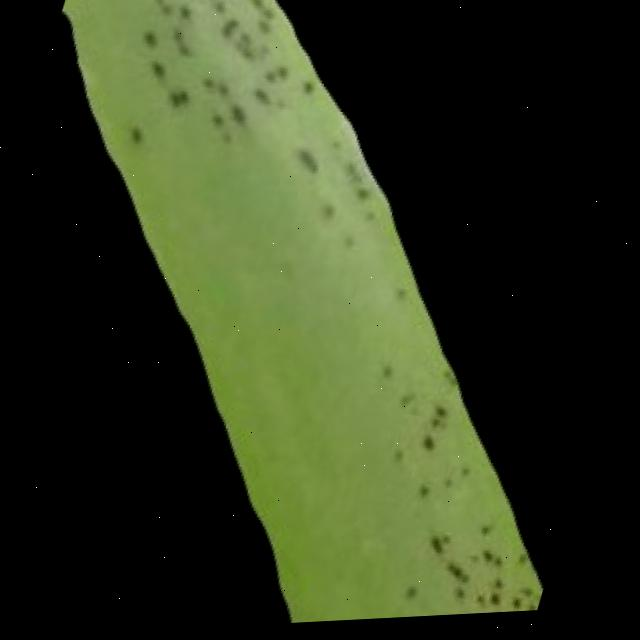mite: (291, 145, 326, 177), (448, 559, 481, 591), (428, 404, 459, 434), (165, 85, 194, 111), (482, 549, 511, 575), (214, 15, 241, 42), (136, 24, 162, 49), (126, 122, 149, 146), (422, 433, 445, 457), (419, 482, 440, 506), (408, 584, 428, 606)
